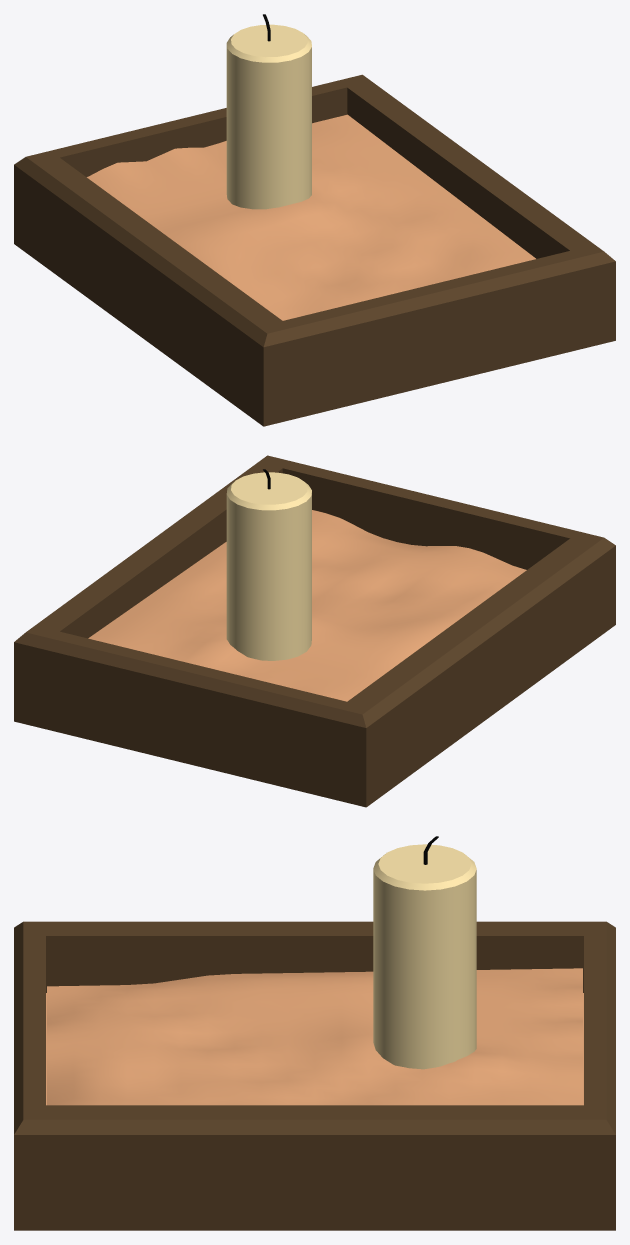
Rendered from Candle.fbx.
3 renders of one model, top to bottom at view 1: azimuth 30°, elevation 25°; view 2: azimuth 150°, elevation 25°; view 3: azimuth 270°, elevation 25°, orthographic. The views are drawn at different scales.
Parts seen in each view (by area): view 1: candleholder; view 2: candleholder; view 3: candleholder.
Part boxes in pixels (x1,y1,x2,y2): candleholder: (14,14,615,426); candleholder: (14,455,615,807); candleholder: (14,836,615,1230).
Size of the model in its own units: 59.49 by 38.77 by 72.98.
